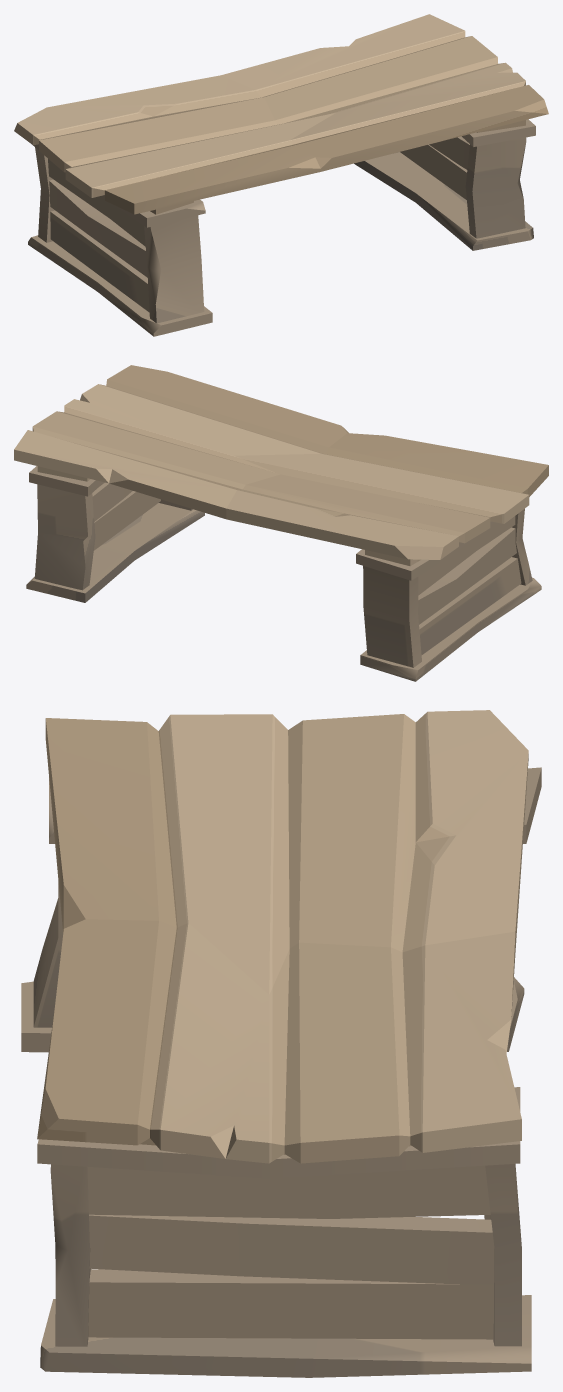
Rendered from SM_Prop_Makeshift_Table_01.fbx.
3 renders of one model, top to bottom at view 1: azimuth 30°, elevation 25°; view 2: azimuth 150°, elevation 25°; view 3: azimuth 270°, elevation 25°, orthographic. The views are drawn at different scales.
Parts seen in each view (by area): view 1: SM_Prop_Makeshift_Table_01; view 2: SM_Prop_Makeshift_Table_01; view 3: SM_Prop_Makeshift_Table_01.
Part boxes in pixels (x1,y1,x2,y2): SM_Prop_Makeshift_Table_01: [14, 14, 548, 336]; SM_Prop_Makeshift_Table_01: [14, 365, 548, 681]; SM_Prop_Makeshift_Table_01: [21, 710, 541, 1377].
Bounding box in the file's own units: 227 × 65.89 × 117.
